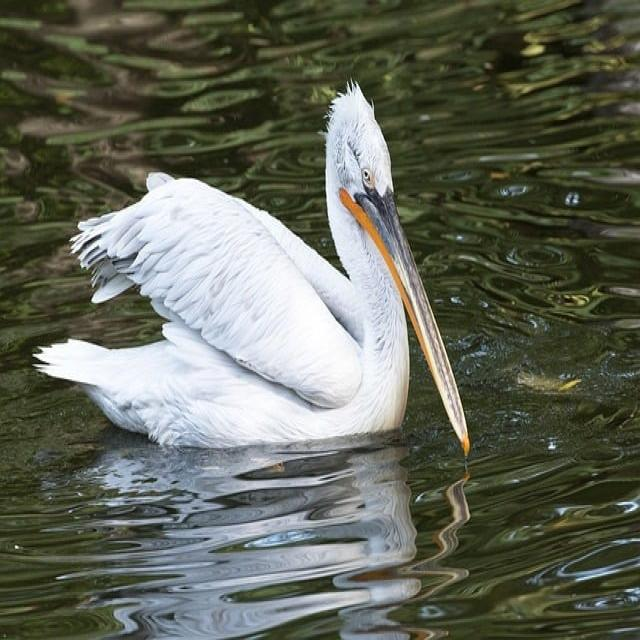Carnivorous: (32, 82, 464, 451)
